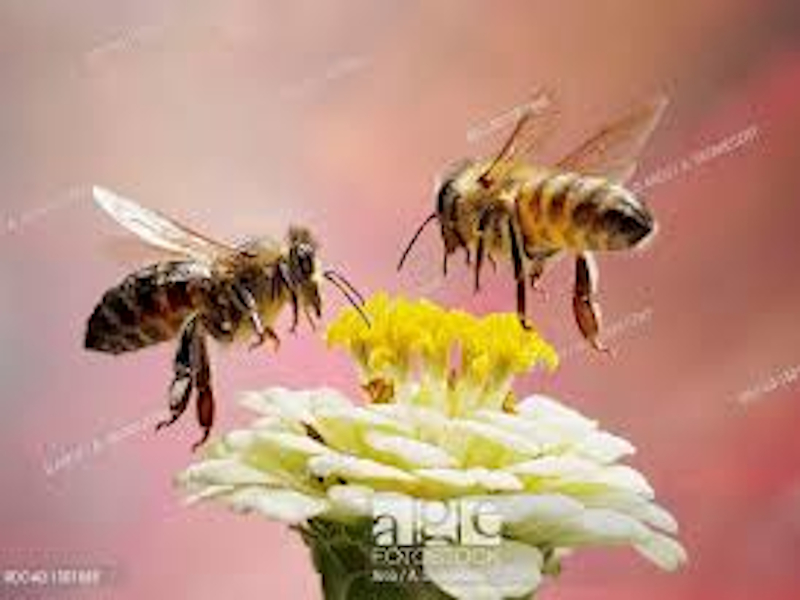abeja: (374, 69, 703, 367), (72, 160, 391, 457)
